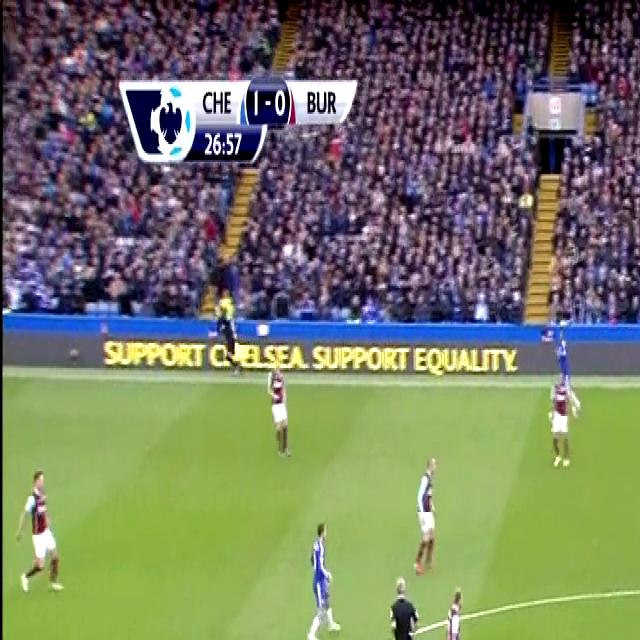referee: (212, 286, 248, 380), (382, 570, 421, 640)
soccer-player: (13, 452, 72, 602), (300, 514, 342, 640), (408, 450, 441, 584), (541, 361, 580, 473), (260, 354, 292, 464), (546, 324, 576, 418), (437, 583, 476, 640)
